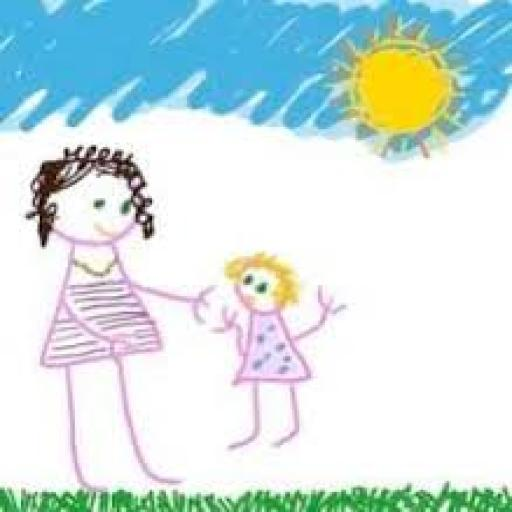person: (20, 140, 215, 504), (210, 238, 347, 454)
